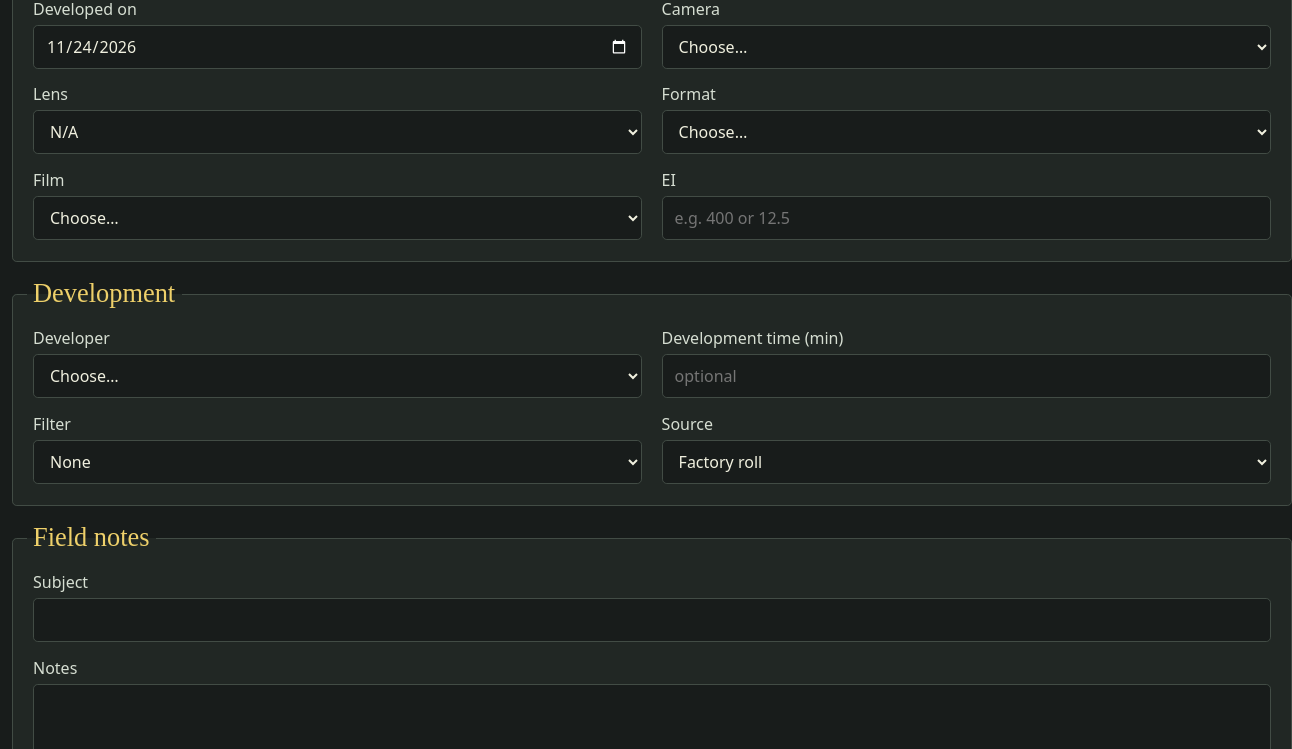
rejects an EI that is not a number, without calling the API
Select "Leica M3" in the dropdown labelled "Camera" at (966, 47), box [662,25,1271,69]
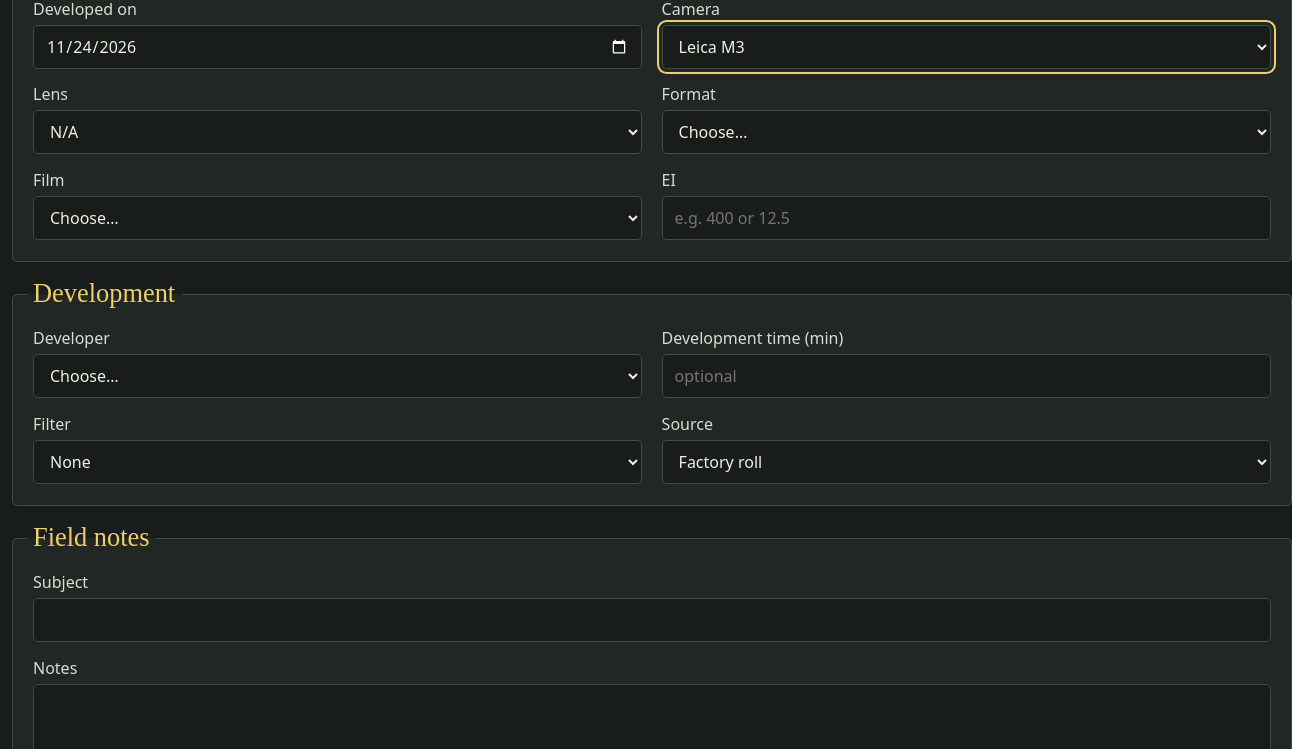
Select "35mm" in the dropdown labelled "Format" at (966, 132), box [662,110,1271,154]
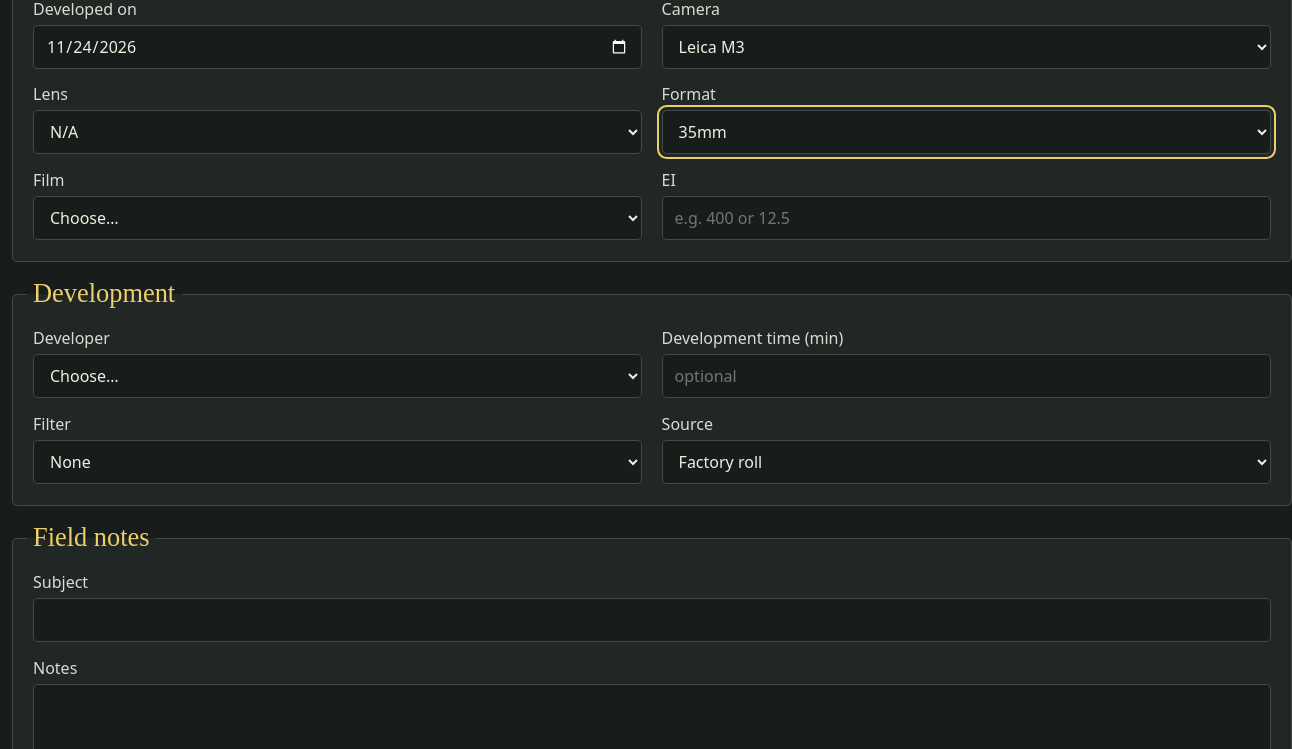
Select "HC-110" in the dropdown labelled "Developer" at (338, 376), box [33,354,642,398]
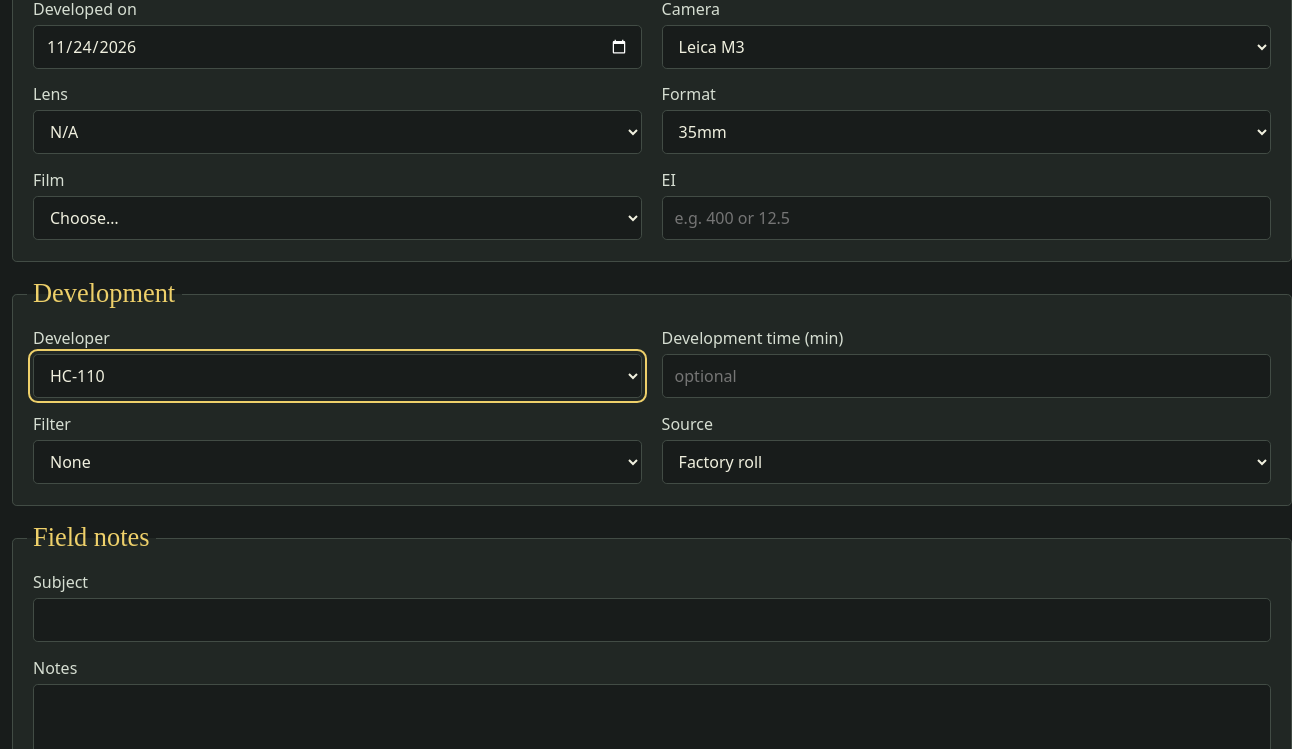
Select "Tri-X" in the dropdown labelled "Film" at (338, 218), box [33,196,642,240]
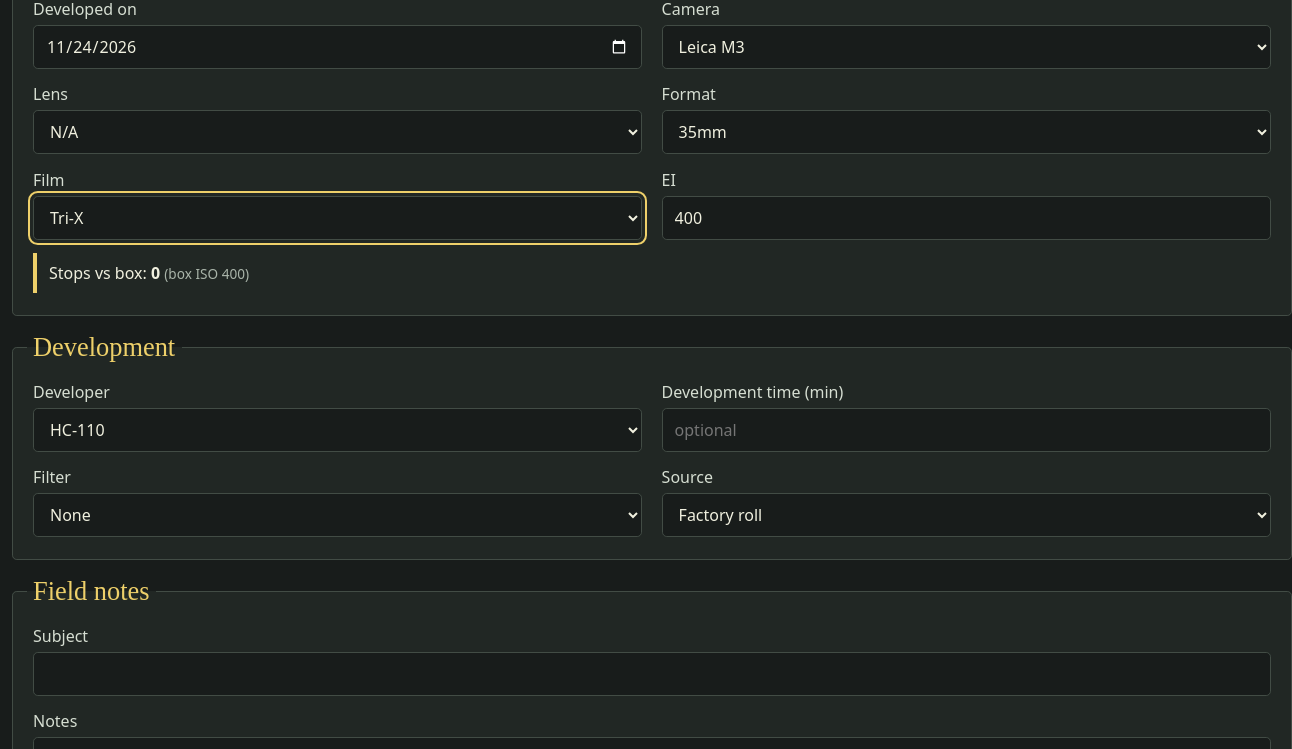
Replace the text in the field labelled "EI" with "fast" at (966, 218), box [662,196,1271,240]
(page scrolled)
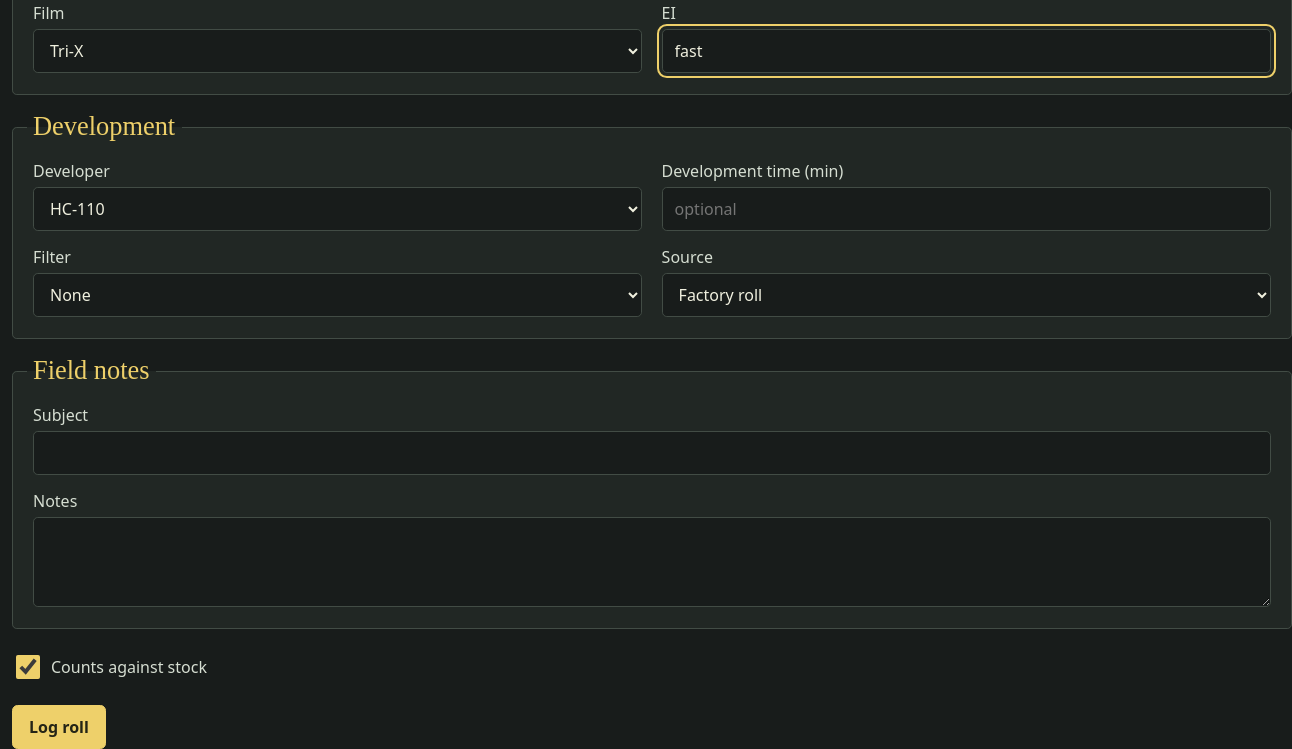
Click the button "Log roll" at (59, 727), box [12,705,106,748]
(page scrolled)
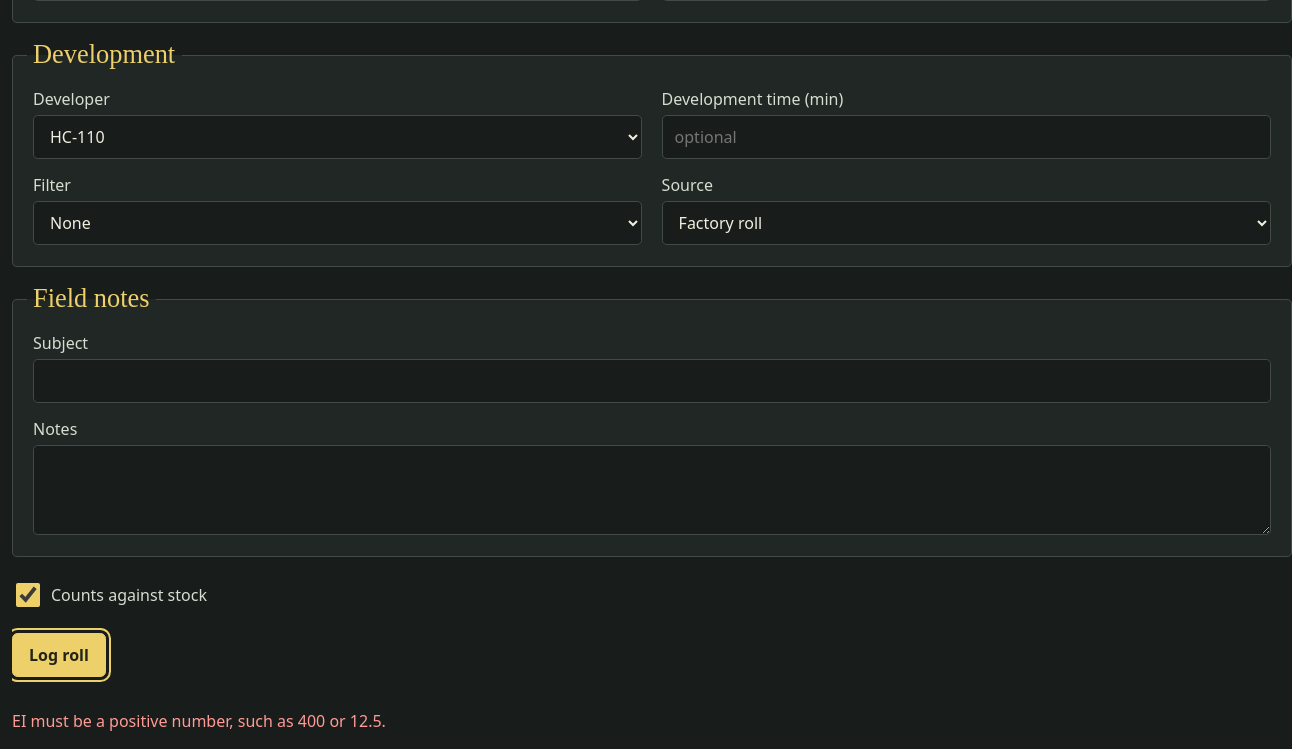
expect the message shows "EI must be a positive number": met, box [12,710,386,732]
